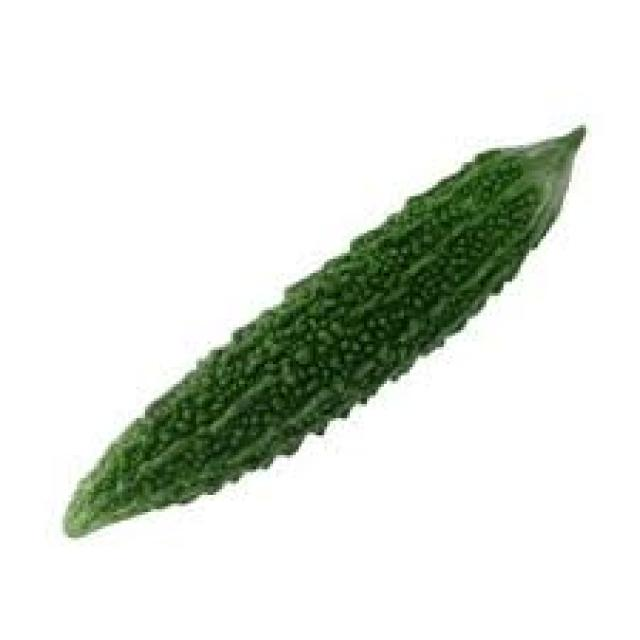organic waste: (60, 125, 580, 529)
